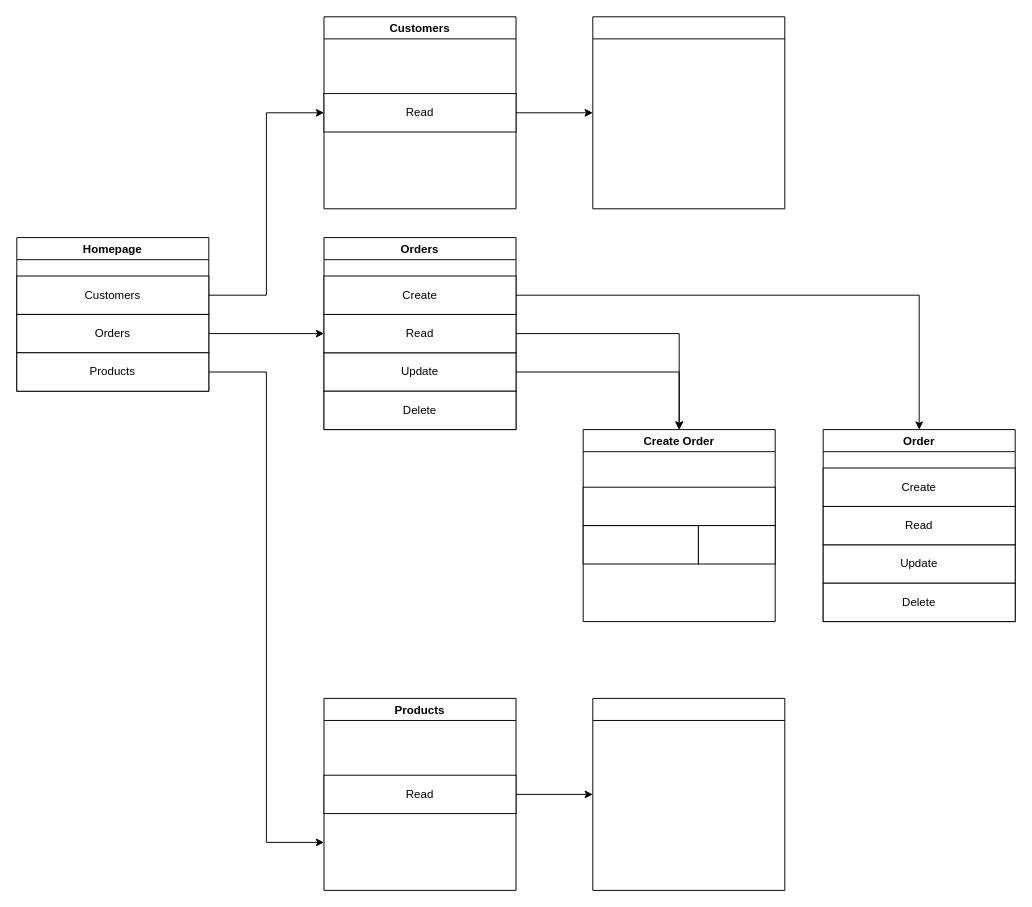
This 1032x907 diagram has some shape labels left out. Each missing label, with the centre of its shape:
"Customer" goes at point 688,112.
"customerId" goes at point 678,506.
"Product" goes at point 688,793.
"ProductId[]" goes at point 640,544.
"Quantity" goes at point 736,544.
